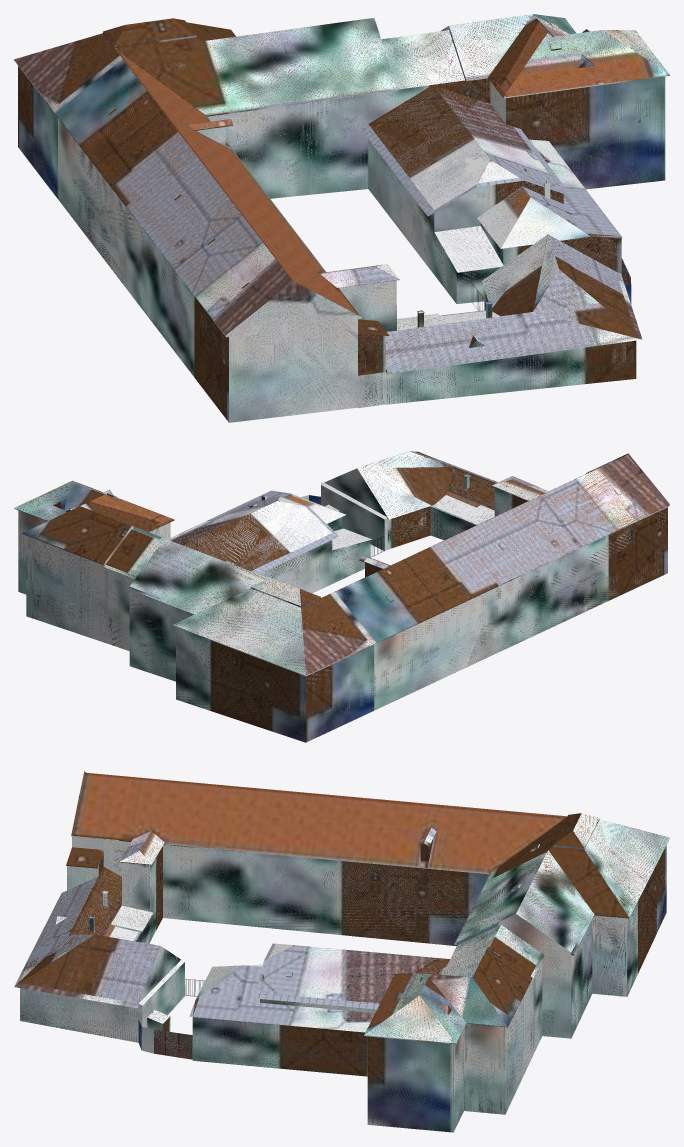
File: cvc.glb
The picture shows the model from 3 angles, top to bottom: view 1: azimuth 30°, elevation 25°; view 2: azimuth 150°, elevation 25°; view 3: azimuth 270°, elevation 25°; orthographic projection. The views are drawn at different scales.
Visible parts, largest first — view 1: strechy_budovy, strechy_budovy_0, strechy_budovy_1, priečelie-meštianky, priečelie-juh-vpravo-od-telocvicne, stena-vo-dvore-pri-kostole_3, strecha-šedá1, priečelie-juh-vpravo-od-telocvicne_2, priečelie-z-dvora_2, stena-vo-dvore-vpravo, stena-pri-kostole-1_7, stena-pri-kostole-2 (+1 smaller); view 2: strechy_budovy, strechy_budovy_0, strechy_budovy_1, priečelie-meštianky, priečelie-sever1, priečelie-sever4, strecha-šedá1, stena-vo-dvore-vpravo, priečelie-sever3_1, priečelie-sever3, priečelie-sever2; view 3: strechy_budovy, strechy_budovy_0, priečelie-z-dvora, priečelie-východ, telocvicna-východ, priečelie-sever3_1, strecha-šedá1, priečelie-sever4-5, priečelie-sever1-2, plech, priečelie-sever1, stena-vo-dvore-pri-kostole_2_3 (+1 smaller).
Part boxes in pixels (x1,y1,x2,y2): strechy_budovy: [14, 14, 669, 422]; strechy_budovy_0: [74, 15, 668, 373]; strechy_budovy_1: [15, 34, 291, 331]; priečelie-meštianky: [18, 67, 228, 411]; priečelie-juh-vpravo-od-telocvicne: [311, 77, 665, 193]; stena-vo-dvore-pri-kostole_3: [227, 288, 362, 422]; strecha-šedá1: [194, 119, 619, 323]; priečelie-juh-vpravo-od-telocvicne_2: [208, 103, 310, 196]; priečelie-z-dvora_2: [106, 36, 620, 303]; stena-vo-dvore-vpravo: [368, 141, 456, 301]; stena-pri-kostole-1_7: [386, 356, 525, 403]; stena-pri-kostole-2: [527, 341, 635, 389]; strechy_budovy: [14, 451, 669, 742]; strechy_budovy_0: [15, 451, 667, 673]; strechy_budovy_1: [301, 456, 667, 674]; priečelie-meštianky: [306, 508, 667, 741]; priečelie-sever1: [176, 629, 305, 741]; priečelie-sever4: [26, 537, 89, 636]; strecha-šedá1: [170, 483, 473, 573]; stena-vo-dvore-vpravo: [264, 541, 370, 591]; priečelie-sever3_1: [106, 471, 384, 576]; priečelie-sever3: [90, 563, 133, 650]; priečelie-sever2: [130, 592, 191, 679]; strechy_budovy: [14, 771, 669, 1132]; strechy_budovy_0: [16, 771, 667, 1043]; priečelie-z-dvora: [163, 845, 488, 945]; priečelie-východ: [20, 906, 551, 1131]; telocvicna-východ: [193, 1017, 367, 1075]; priečelie-sever3_1: [67, 842, 571, 1037]; strecha-šedá1: [110, 831, 435, 1016]; priečelie-sever4-5: [464, 1024, 505, 1114]; priečelie-sever1-2: [592, 915, 627, 996]; plech: [154, 1029, 192, 1059]; priečelie-sever1: [627, 849, 666, 993]; stena-vo-dvore-pri-kostole_2_3: [69, 854, 160, 934].
Size of the model in its own units: 63.16 by 15.99 by 67.92.
48 materials, 48 textured.
